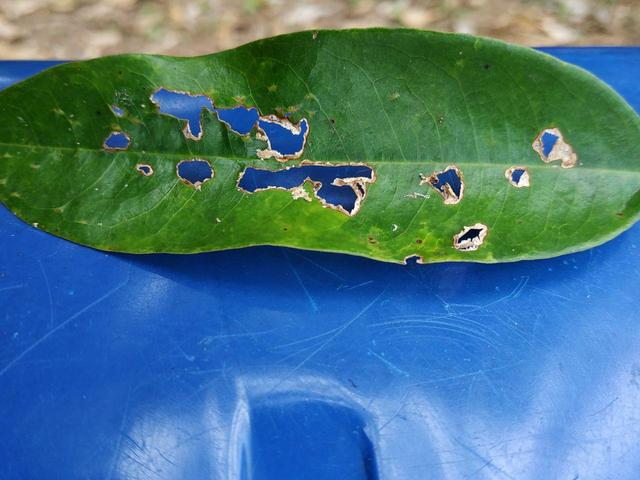blight spot: (101, 83, 385, 222), (416, 162, 470, 211), (530, 124, 574, 166), (449, 221, 489, 254), (500, 158, 530, 196)
